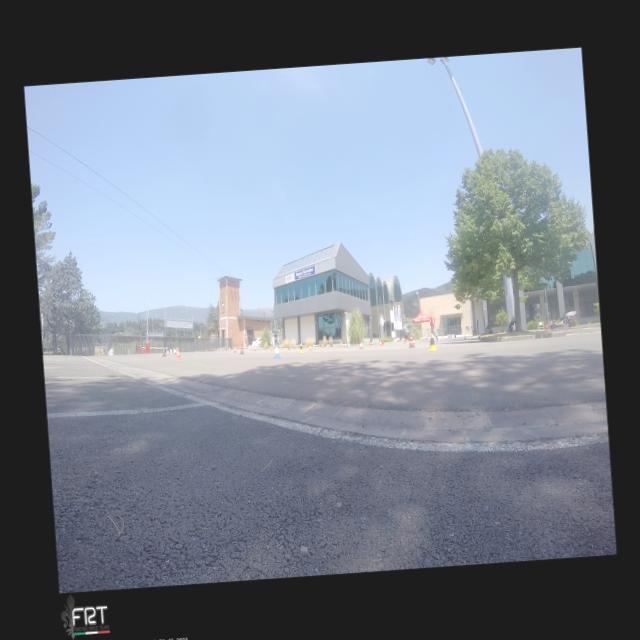blue_cone: (272, 342, 282, 358), (312, 343, 315, 349), (348, 341, 350, 348)
large_orange_cone: (406, 333, 416, 347), (238, 343, 244, 354), (292, 342, 294, 348)
orange_cone: (174, 347, 182, 359), (358, 339, 364, 348), (308, 342, 312, 352), (173, 346, 177, 354), (412, 338, 416, 346), (232, 346, 236, 352), (252, 345, 256, 351), (380, 341, 384, 346), (258, 345, 262, 350), (344, 342, 347, 348), (321, 342, 324, 348), (441, 335, 444, 341), (369, 341, 373, 345), (341, 342, 344, 346), (270, 344, 272, 350), (228, 346, 230, 352)
unknown_cone: (161, 346, 166, 356), (464, 334, 466, 340), (403, 338, 406, 342), (288, 344, 290, 349)
yellow_cone: (426, 332, 438, 351), (298, 342, 304, 352)
